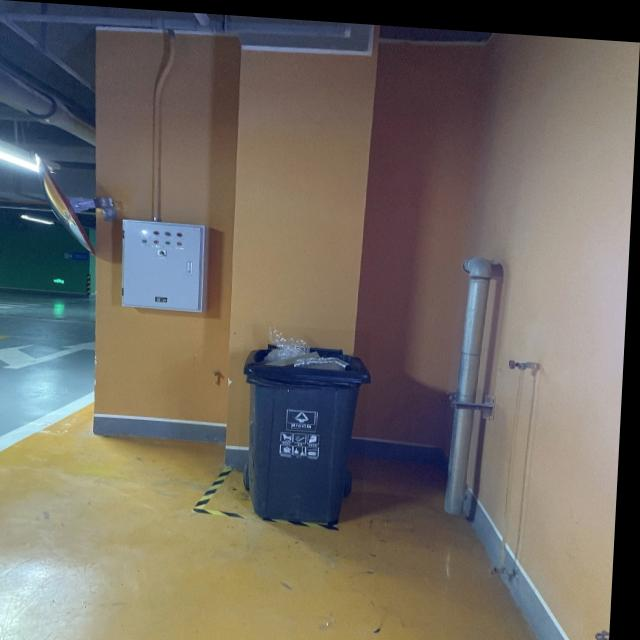overflow: (241, 320, 375, 520)
